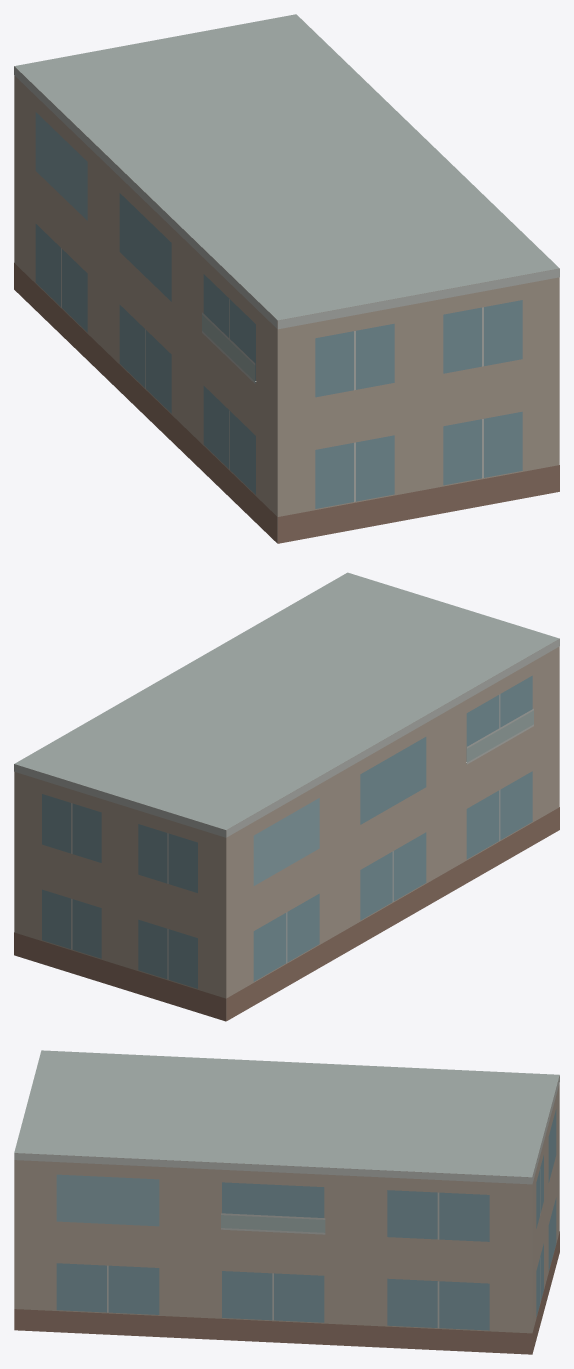
The model's file is survey-upis-32831151.glb.
The picture shows the model from 3 angles, top to bottom: view 1: azimuth 30°, elevation 25°; view 2: azimuth 150°, elevation 25°; view 3: azimuth 270°, elevation 25°; orthographic projection. The views are drawn at different scales.
Visible parts, largest first — view 1: survey-upis-32831151.tmp; view 2: survey-upis-32831151.tmp; view 3: survey-upis-32831151.tmp.
Part boxes in pixels (<box>): survey-upis-32831151.tmp: <box>14,14,559,543</box>; survey-upis-32831151.tmp: <box>14,572,559,1021</box>; survey-upis-32831151.tmp: <box>14,1050,559,1354</box>.
Size of the model in its own units: 9.38 by 6.1 by 17.03.
